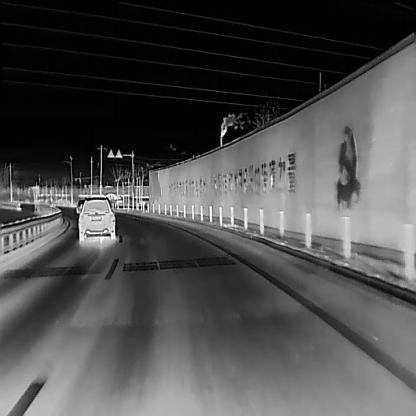car: (74, 194, 113, 242)
